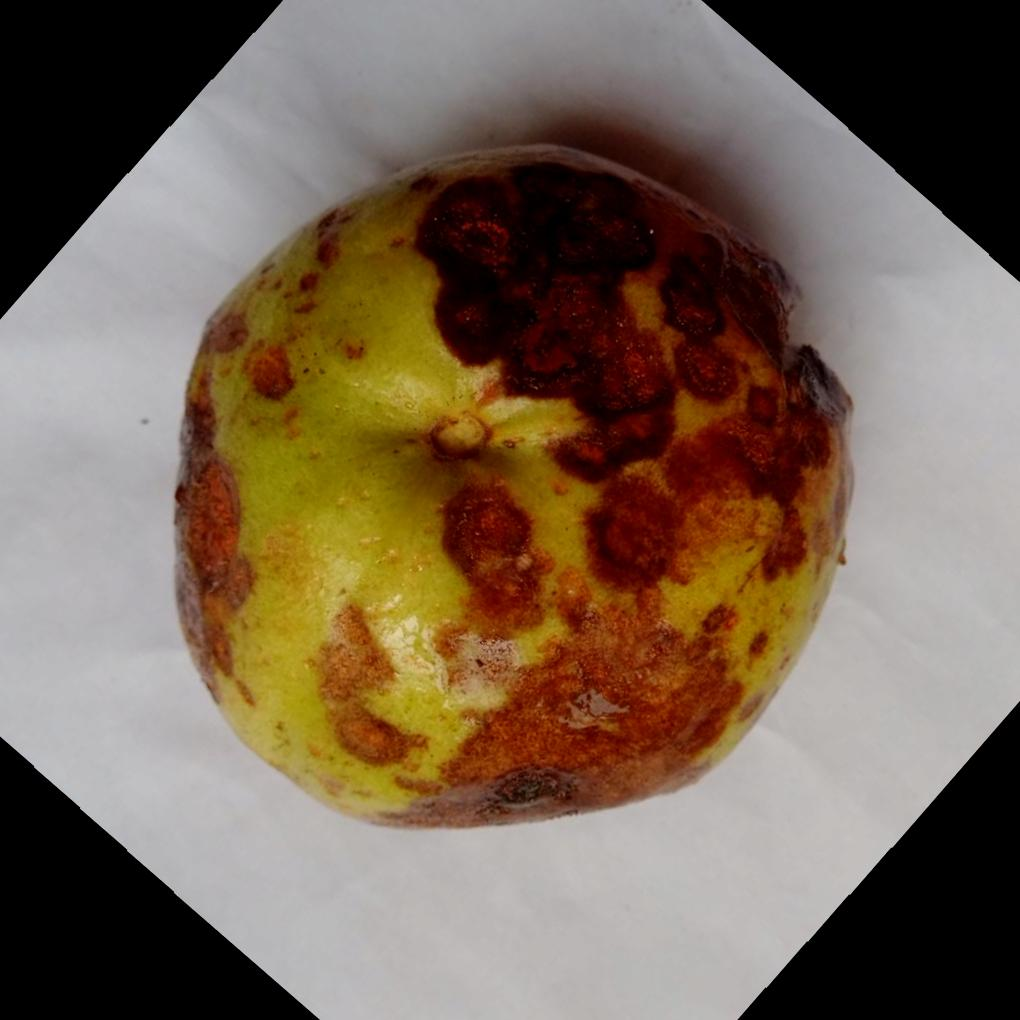FreshOrange: (168, 142, 853, 834)
